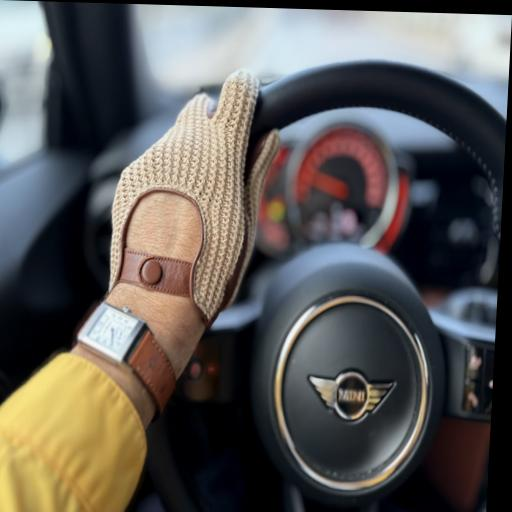Hands-on-the-Wheel: (72, 54, 313, 397)
